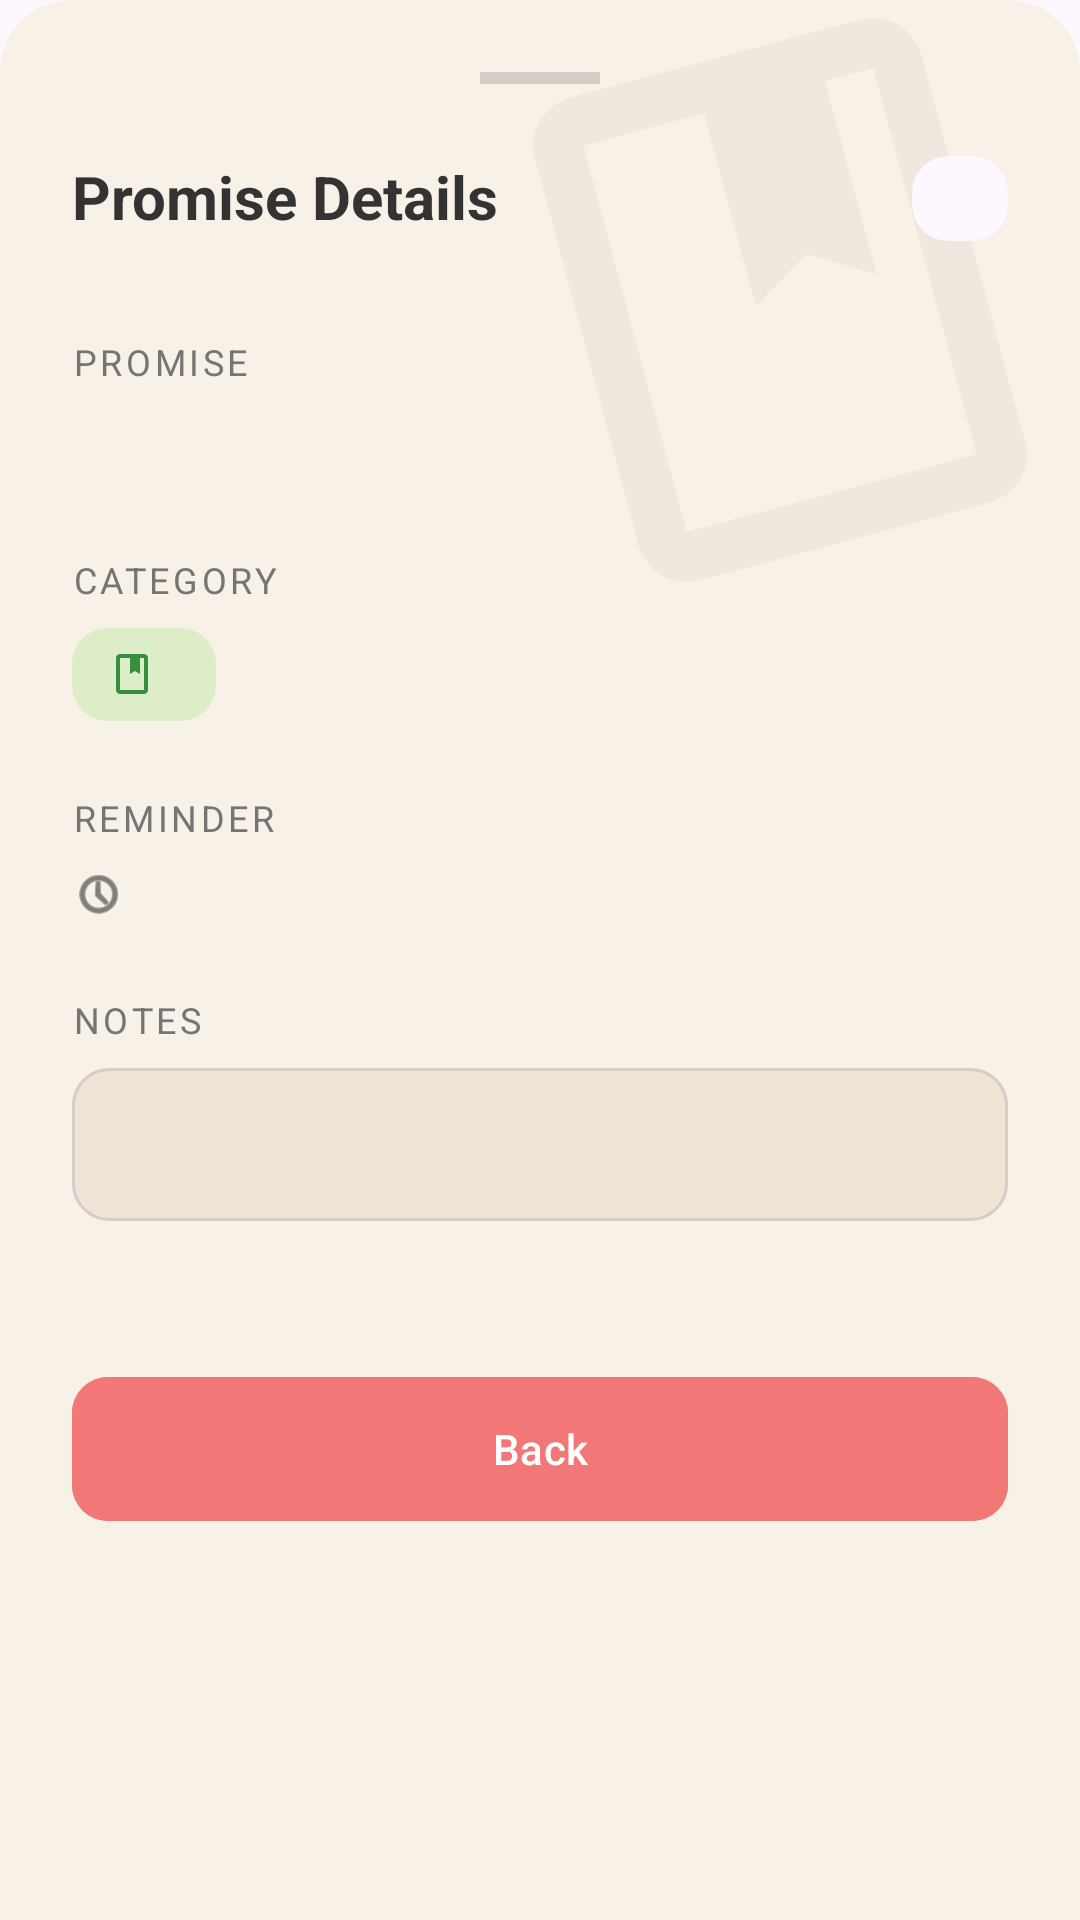

Named icons in this screenshot (1080w x 1920h) and their centers, (x,y):
recent history: (98,894)
study: (132,674)
